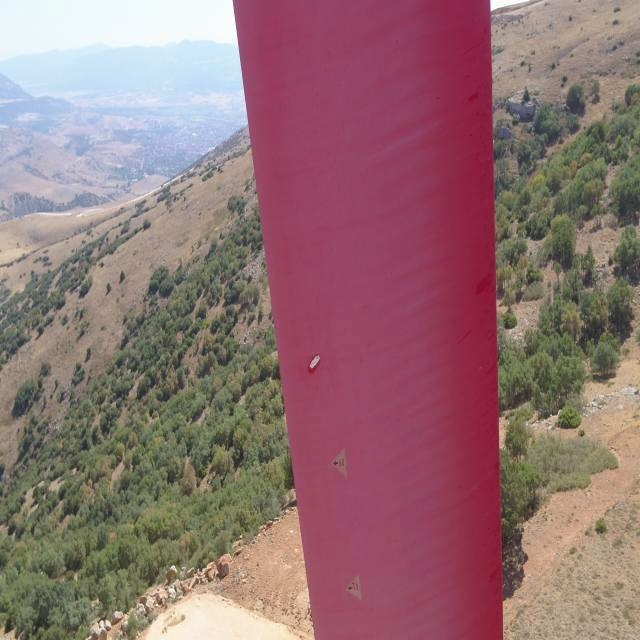Coating_defects: (329, 449, 360, 476), (344, 575, 369, 604), (308, 350, 321, 372)
